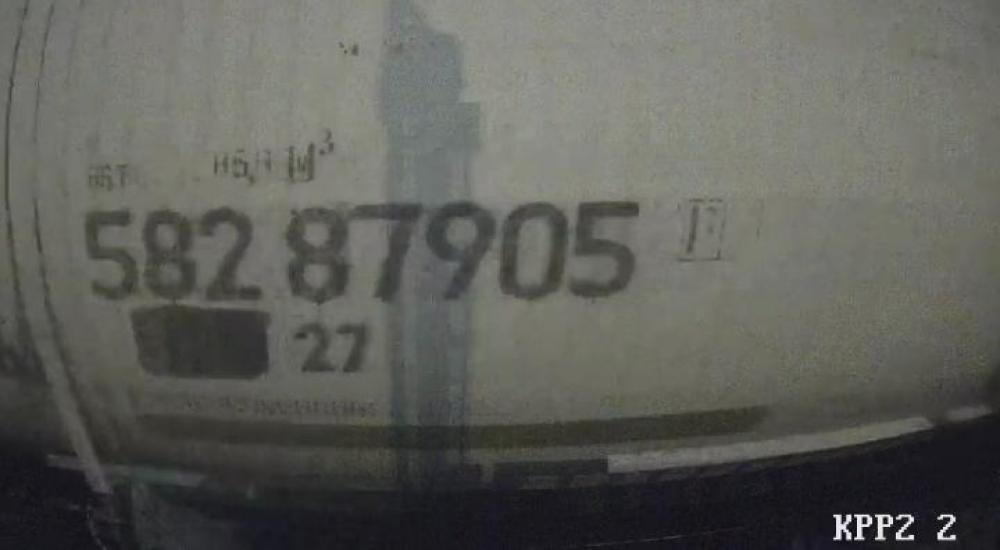Wagon-number: (82, 194, 645, 305)
